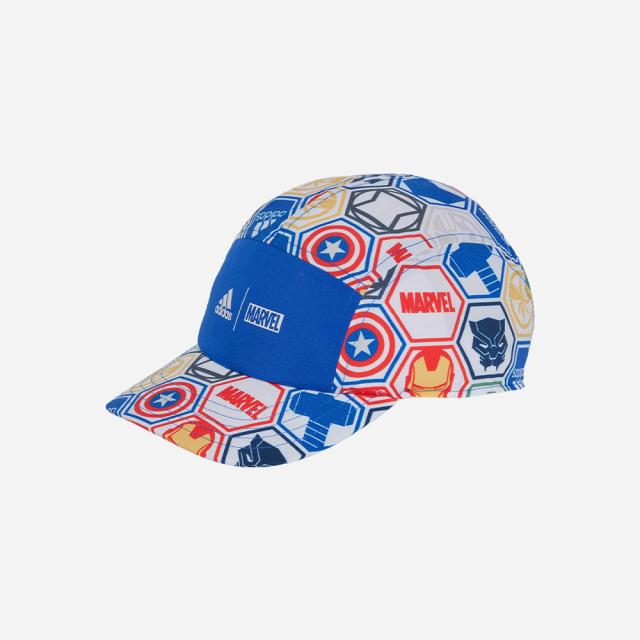Nonhelmet: (94, 158, 544, 474)
